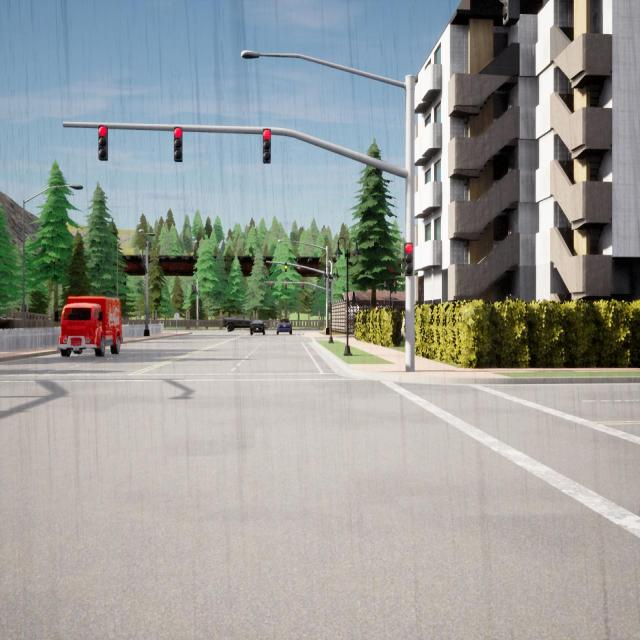Traffic_Signs: (174, 312, 179, 320)
Vehicle: (59, 296, 122, 356), (223, 314, 253, 332), (276, 317, 292, 335), (250, 320, 265, 336)
traffic_light: (497, 0, 522, 28), (98, 125, 108, 161), (262, 128, 272, 164), (404, 243, 413, 276), (174, 126, 182, 163), (285, 262, 287, 272), (270, 282, 272, 290), (192, 286, 194, 294), (285, 282, 287, 290), (302, 283, 304, 289), (198, 307, 200, 312)
